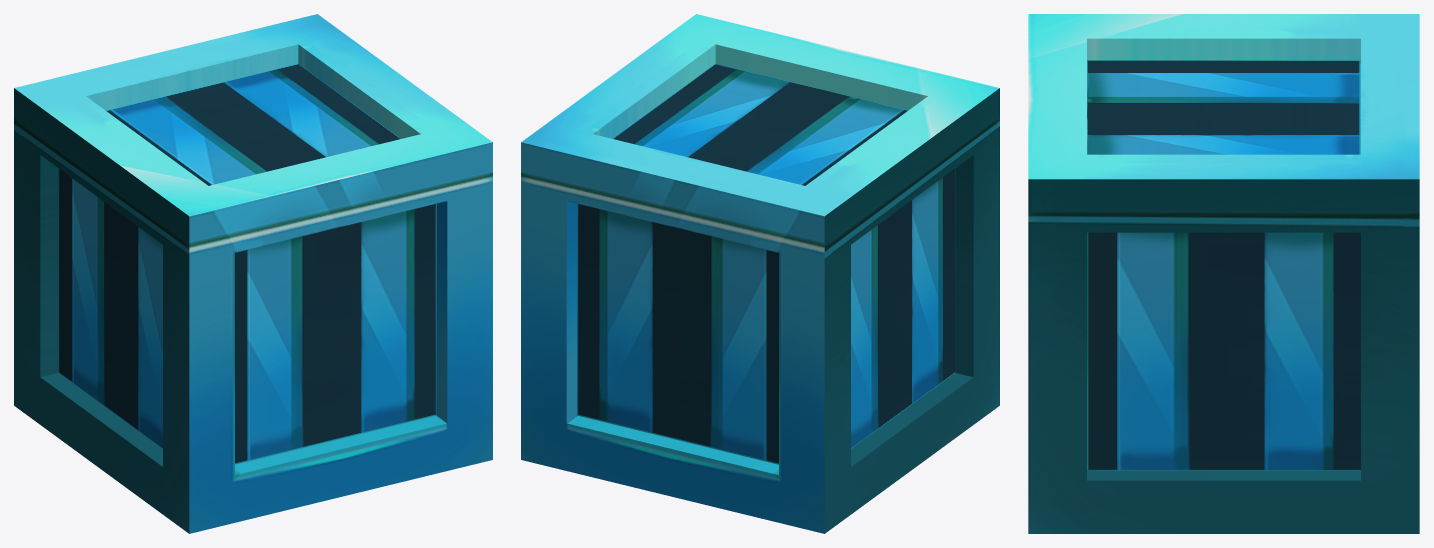
The model's file is Chest_City.fbx.
The picture shows the model from 3 angles, left to right: view 1: azimuth 30°, elevation 25°; view 2: azimuth 150°, elevation 25°; view 3: azimuth 270°, elevation 25°; orthographic projection. The views are drawn at different scales.
Parts seen in each view (by area): view 1: Chest_City; view 2: Chest_City; view 3: Chest_City.
Part boxes in pixels (x1=…): Chest_City: x1=14, y1=14, x2=492, y2=533; Chest_City: x1=521, y1=14, x2=999, y2=533; Chest_City: x1=1028, y1=14, x2=1419, y2=533.
Bounding box in the file's own units: 248 × 248 × 248.
1 material, 1 textured.
